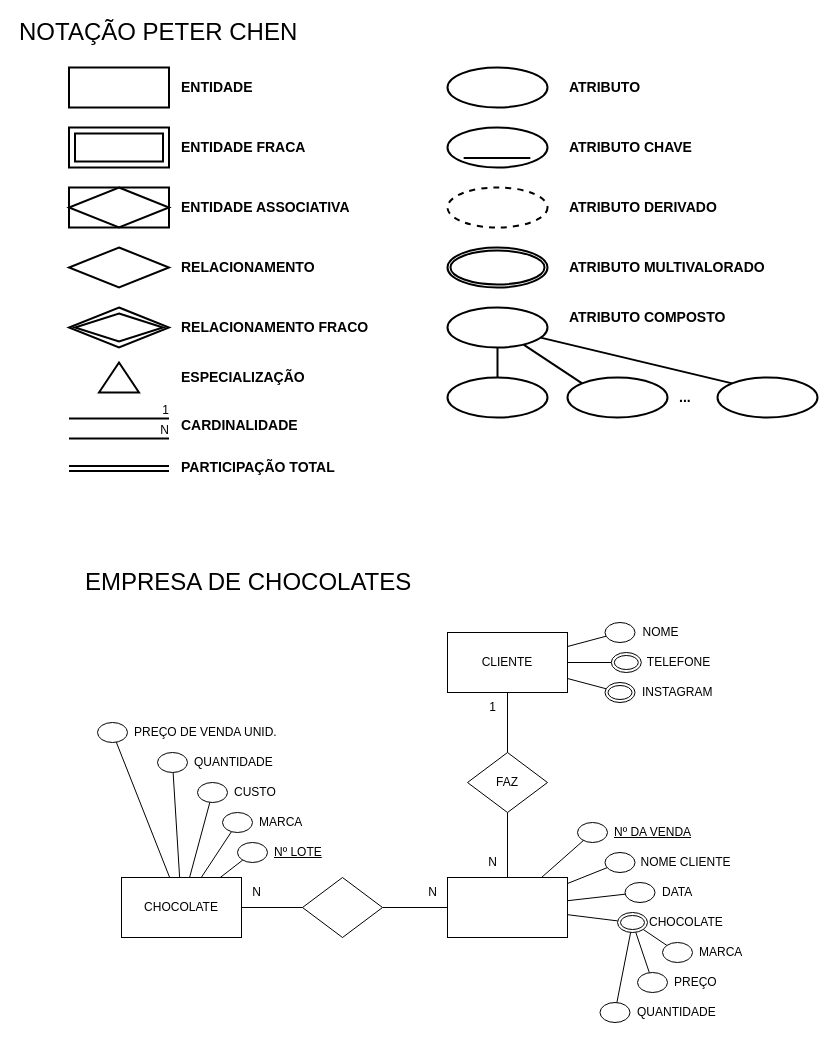
The diagram is 835 pixels wide and 1044 high, and some of its shapes have lost their labels. The centre of each missing label's shape, as x and y in pixels:
PEDIDO: point 507,907
VENDE: point 342,907
